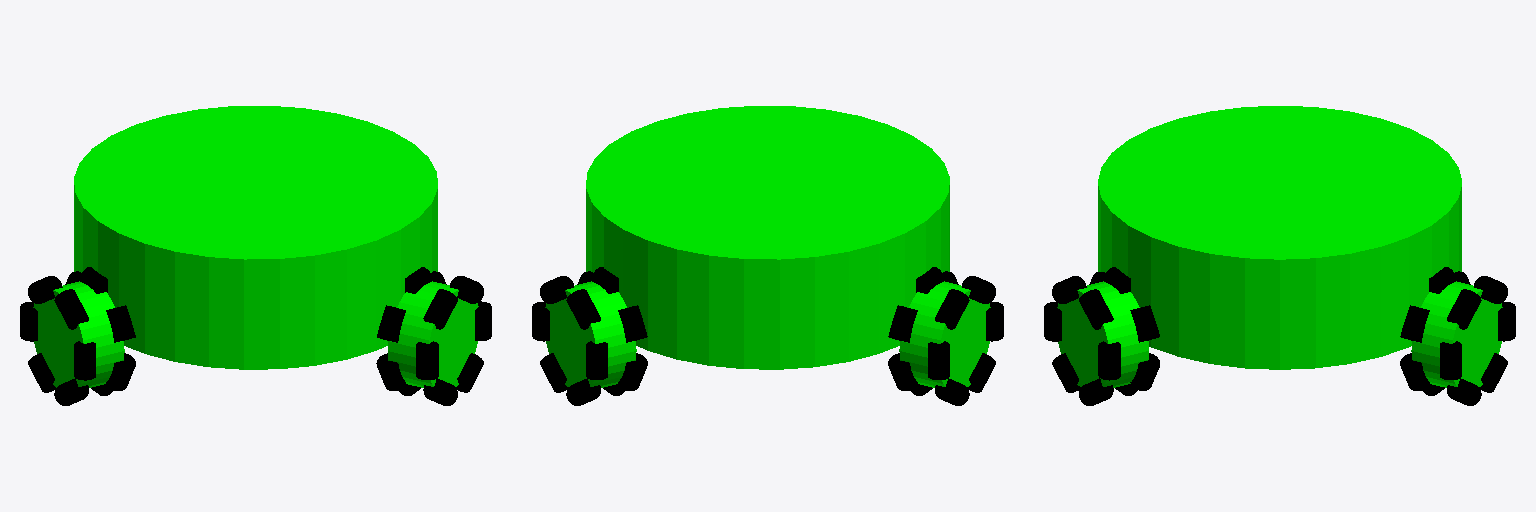
--- What the picture shows (computed from the rendered views, not written in the file) ---
3 views of the same robot in one strip: view 1: azimuth 30°, elevation 25°; view 2: azimuth 150°, elevation 25°; view 3: azimuth 270°, elevation 25° (orthographic).
Robot: humblebot — 41 links, 40 joints (39 continuous, 1 fixed); root link base_footprint; default pose: all joints at 0.
Links seen in each view (by area): view 1: base_link, wheel_300deg, wheel_180deg, wheel_180deg_roller_8, wheel_300deg_roller_11, wheel_180deg_roller_9, wheel_300deg_roller_7, wheel_300deg_roller_3, wheel_180deg_roller_5, wheel_300deg_roller_6, wheel_180deg_roller_4, wheel_300deg_roller_8 (+7 smaller); view 2: base_link, wheel_60deg, wheel_300deg, wheel_60deg_roller_11, wheel_300deg_roller_9, wheel_60deg_roller_7, wheel_300deg_roller_8, wheel_300deg_roller_5, wheel_60deg_roller_3, wheel_60deg_roller_6, wheel_300deg_roller_4, wheel_60deg_roller_8 (+7 smaller); view 3: base_link, wheel_180deg, wheel_60deg, wheel_180deg_roller_7, wheel_60deg_roller_9, wheel_180deg_roller_11, wheel_60deg_roller_8, wheel_60deg_roller_5, wheel_180deg_roller_3, wheel_60deg_roller_4, wheel_180deg_roller_6, wheel_180deg_roller_8 (+7 smaller).
Boxes of the visible links, x1,y1,x2,y2 form: base_link: (74, 106, 437, 369); wheel_300deg: (33, 281, 124, 387); wheel_180deg: (388, 281, 478, 387); wheel_180deg_roller_8: (416, 341, 438, 379); wheel_300deg_roller_11: (54, 289, 88, 329); wheel_180deg_roller_9: (423, 289, 457, 329); wheel_300deg_roller_7: (74, 341, 95, 380); wheel_300deg_roller_3: (106, 305, 135, 342); wheel_180deg_roller_5: (377, 305, 405, 342); wheel_300deg_roller_6: (106, 353, 135, 390); wheel_180deg_roller_4: (376, 353, 405, 390); wheel_300deg_roller_8: (20, 302, 37, 341); base_link: (586, 106, 949, 369); wheel_60deg: (545, 281, 636, 387); wheel_300deg: (899, 281, 990, 387); wheel_60deg_roller_11: (566, 289, 600, 329); wheel_300deg_roller_9: (935, 289, 969, 329); wheel_60deg_roller_7: (586, 341, 607, 379); wheel_300deg_roller_8: (928, 341, 949, 379); wheel_300deg_roller_5: (888, 305, 917, 342); wheel_60deg_roller_3: (618, 305, 647, 342); wheel_60deg_roller_6: (618, 353, 647, 390); wheel_300deg_roller_4: (888, 353, 917, 390); wheel_60deg_roller_8: (532, 302, 549, 341); base_link: (1098, 106, 1461, 369); wheel_180deg: (1057, 281, 1148, 387); wheel_60deg: (1411, 281, 1502, 387); wheel_180deg_roller_7: (1098, 341, 1120, 380); wheel_60deg_roller_9: (1447, 289, 1481, 329); wheel_180deg_roller_11: (1079, 289, 1113, 329); wheel_60deg_roller_8: (1440, 341, 1461, 379); wheel_60deg_roller_5: (1400, 305, 1429, 342); wheel_180deg_roller_3: (1130, 305, 1159, 342); wheel_60deg_roller_4: (1400, 353, 1429, 390); wheel_180deg_roller_6: (1130, 353, 1159, 390); wheel_180deg_roller_8: (1044, 302, 1061, 341).
Size in the robot's own frame: 0.2775 by 0.3099 by 0.1225 metres.
Geometry: primitives only (box / cylinder / sphere), no mesh files.

URDF robot description (humblebot):
<?xml version="1.0" ?>
<!-- =================================================================================== -->
<!-- |    This document was autogenerated by xacro from humblebot.xacro                | -->
<!-- |    EDITING THIS FILE BY HAND IS NOT RECOMMENDED                                 | -->
<!-- =================================================================================== -->
<robot name="humblebot">
  <!-- Common Properties -->
  <!-- colors-->
  <material name="green">
    <color rgba="0 1 0 1"/>
  </material>
  <material name="black">
    <color rgba="0 0 0 1"/>
  </material>
  <!-- Inertia -->
  <!-- Mobile Base -->
  <!-- Calculated/Constant variables -->
  <!-- macros -->
  <!-- Base link -->
  <link name="base_footprint"/>
  <link name="base_link">
    <visual>
      <geometry>
        <cylinder length="0.08" radius="0.12"/>
      </geometry>
      <origin rpy="0 0 0" xyz="0 0 0.04"/>
      <material name="green"/>
    </visual>
    <collision>
      <geometry>
        <cylinder length="0.08" radius="0.12"/>
      </geometry>
      <origin rpy="0 0 0" xyz="0 0 0.04"/>
    </collision>
    <inertial>
      <origin rpy="0 0 0" xyz="0 0 0.04"/>
      <mass value="0.3"/>
      <inertia ixx="0.0012399999999999998" ixy="0.0" ixz="0.0" iyy="0.0012399999999999998" iyz="0.0" izz="0.0021599999999999996"/>
    </inertial>
  </link>
  <!--Wheel 60deg links-->
  <link name="wheel_60deg">
    <visual>
      <geometry>
        <cylinder length="0.03" radius="0.035"/>
      </geometry>
      <origin rpy="0 0 0" xyz="0 0 0.015"/>
      <material name="green"/>
    </visual>
    <collision>
      <geometry>
        <cylinder length="0.03" radius="0.035"/>
      </geometry>
      <origin rpy="0 0 0" xyz="0 0 0.015"/>
    </collision>
    <inertial>
      <origin rpy="0 0 0" xyz="0 0 0.015"/>
      <mass value="0.02"/>
      <inertia ixx="7.625000000000001e-06" ixy="0.0" ixz="0.0" iyy="7.625000000000001e-06" iyz="0.0" izz="1.2250000000000003e-05"/>
    </inertial>
  </link>
  <link name="wheel_60deg_roller_1">
    <visual>
      <geometry>
        <cylinder length="0.022" radius="0.0075"/>
      </geometry>
      <origin rpy="0 0 0" xyz="0 0 0"/>
      <material name="black"/>
    </visual>
    <collision>
      <geometry>
        <cylinder length="0.022" radius="0.0075"/>
      </geometry>
      <origin rpy="0 0 0" xyz="0 0 0"/>
    </collision>
    <inertial>
      <origin rpy="0 0 0" xyz="0 0 0"/>
      <mass value="0.003"/>
      <inertia ixx="1.6318749999999998e-07" ixy="0.0" ixz="0.0" iyy="1.6318749999999998e-07" iyz="0.0" izz="8.437499999999999e-08"/>
    </inertial>
  </link>
  <link name="wheel_60deg_roller_2">
    <visual>
      <geometry>
        <cylinder length="0.022" radius="0.0075"/>
      </geometry>
      <origin rpy="0 0 0" xyz="0 0 0"/>
      <material name="black"/>
    </visual>
    <collision>
      <geometry>
        <cylinder length="0.022" radius="0.0075"/>
      </geometry>
      <origin rpy="0 0 0" xyz="0 0 0"/>
    </collision>
    <inertial>
      <origin rpy="0 0 0" xyz="0 0 0"/>
      <mass value="0.003"/>
      <inertia ixx="1.6318749999999998e-07" ixy="0.0" ixz="0.0" iyy="1.6318749999999998e-07" iyz="0.0" izz="8.437499999999999e-08"/>
    </inertial>
  </link>
  <link name="wheel_60deg_roller_3">
    <visual>
      <geometry>
        <cylinder length="0.022" radius="0.0075"/>
      </geometry>
      <origin rpy="0 0 0" xyz="0 0 0"/>
      <material name="black"/>
    </visual>
    <collision>
      <geometry>
        <cylinder length="0.022" radius="0.0075"/>
      </geometry>
      <origin rpy="0 0 0" xyz="0 0 0"/>
    </collision>
    <inertial>
      <origin rpy="0 0 0" xyz="0 0 0"/>
      <mass value="0.003"/>
      <inertia ixx="1.6318749999999998e-07" ixy="0.0" ixz="0.0" iyy="1.6318749999999998e-07" iyz="0.0" izz="8.437499999999999e-08"/>
    </inertial>
  </link>
  <link name="wheel_60deg_roller_4">
    <visual>
      <geometry>
        <cylinder length="0.022" radius="0.0075"/>
      </geometry>
      <origin rpy="0 0 0" xyz="0 0 0"/>
      <material name="black"/>
    </visual>
    <collision>
      <geometry>
        <cylinder length="0.022" radius="0.0075"/>
      </geometry>
      <origin rpy="0 0 0" xyz="0 0 0"/>
    </collision>
    <inertial>
      <origin rpy="0 0 0" xyz="0 0 0"/>
      <mass value="0.003"/>
      <inertia ixx="1.6318749999999998e-07" ixy="0.0" ixz="0.0" iyy="1.6318749999999998e-07" iyz="0.0" izz="8.437499999999999e-08"/>
    </inertial>
  </link>
  <link name="wheel_60deg_roller_5">
    <visual>
      <geometry>
        <cylinder length="0.022" radius="0.0075"/>
      </geometry>
      <origin rpy="0 0 0" xyz="0 0 0"/>
      <material name="black"/>
    </visual>
    <collision>
      <geometry>
        <cylinder length="0.022" radius="0.0075"/>
      </geometry>
      <origin rpy="0 0 0" xyz="0 0 0"/>
    </collision>
    <inertial>
      <origin rpy="0 0 0" xyz="0 0 0"/>
      <mass value="0.003"/>
      <inertia ixx="1.6318749999999998e-07" ixy="0.0" ixz="0.0" iyy="1.6318749999999998e-07" iyz="0.0" izz="8.437499999999999e-08"/>
    </inertial>
  </link>
  <link name="wheel_60deg_roller_6">
    <visual>
      <geometry>
        <cylinder length="0.022" radius="0.0075"/>
      </geometry>
      <origin rpy="0 0 0" xyz="0 0 0"/>
      <material name="black"/>
    </visual>
    <collision>
      <geometry>
        <cylinder length="0.022" radius="0.0075"/>
      </geometry>
      <origin rpy="0 0 0" xyz="0 0 0"/>
    </collision>
    <inertial>
      <origin rpy="0 0 0" xyz="0 0 0"/>
      <mass value="0.003"/>
      <inertia ixx="1.6318749999999998e-07" ixy="0.0" ixz="0.0" iyy="1.6318749999999998e-07" iyz="0.0" izz="8.437499999999999e-08"/>
    </inertial>
  </link>
  <link name="wheel_60deg_roller_7">
    <visual>
      <geometry>
        <cylinder length="0.022" radius="0.0075"/>
      </geometry>
      <origin rpy="0 0 0" xyz="0 0 0"/>
      <material name="black"/>
    </visual>
    <collision>
      <geometry>
        <cylinder length="0.022" radius="0.0075"/>
      </geometry>
      <origin rpy="0 0 0" xyz="0 0 0"/>
    </collision>
    <inertial>
      <origin rpy="0 0 0" xyz="0 0 0"/>
      <mass value="0.003"/>
      <inertia ixx="1.6318749999999998e-07" ixy="0.0" ixz="0.0" iyy="1.6318749999999998e-07" iyz="0.0" izz="8.437499999999999e-08"/>
    </inertial>
  </link>
  <link name="wheel_60deg_roller_8">
    <visual>
      <geometry>
        <cylinder length="0.022" radius="0.0075"/>
      </geometry>
      <origin rpy="0 0 0" xyz="0 0 0"/>
      <material name="black"/>
    </visual>
    <collision>
      <geometry>
        <cylinder length="0.022" radius="0.0075"/>
      </geometry>
      <origin rpy="0 0 0" xyz="0 0 0"/>
    </collision>
    <inertial>
      <origin rpy="0 0 0" xyz="0 0 0"/>
      <mass value="0.003"/>
      <inertia ixx="1.6318749999999998e-07" ixy="0.0" ixz="0.0" iyy="1.6318749999999998e-07" iyz="0.0" izz="8.437499999999999e-08"/>
    </inertial>
  </link>
  <link name="wheel_60deg_roller_9">
    <visual>
      <geometry>
        <cylinder length="0.022" radius="0.0075"/>
      </geometry>
      <origin rpy="0 0 0" xyz="0 0 0"/>
      <material name="black"/>
    </visual>
    <collision>
      <geometry>
        <cylinder length="0.022" radius="0.0075"/>
      </geometry>
      <origin rpy="0 0 0" xyz="0 0 0"/>
    </collision>
    <inertial>
      <origin rpy="0 0 0" xyz="0 0 0"/>
      <mass value="0.003"/>
      <inertia ixx="1.6318749999999998e-07" ixy="0.0" ixz="0.0" iyy="1.6318749999999998e-07" iyz="0.0" izz="8.437499999999999e-08"/>
    </inertial>
  </link>
  <link name="wheel_60deg_roller_10">
    <visual>
      <geometry>
        <cylinder length="0.022" radius="0.0075"/>
      </geometry>
      <origin rpy="0 0 0" xyz="0 0 0"/>
      <material name="black"/>
    </visual>
    <collision>
      <geometry>
        <cylinder length="0.022" radius="0.0075"/>
      </geometry>
      <origin rpy="0 0 0" xyz="0 0 0"/>
    </collision>
    <inertial>
      <origin rpy="0 0 0" xyz="0 0 0"/>
      <mass value="0.003"/>
      <inertia ixx="1.6318749999999998e-07" ixy="0.0" ixz="0.0" iyy="1.6318749999999998e-07" iyz="0.0" izz="8.437499999999999e-08"/>
    </inertial>
  </link>
  <link name="wheel_60deg_roller_11">
    <visual>
      <geometry>
        <cylinder length="0.022" radius="0.0075"/>
      </geometry>
      <origin rpy="0 0 0" xyz="0 0 0"/>
      <material name="black"/>
    </visual>
    <collision>
      <geometry>
        <cylinder length="0.022" radius="0.0075"/>
      </geometry>
      <origin rpy="0 0 0" xyz="0 0 0"/>
    </collision>
    <inertial>
      <origin rpy="0 0 0" xyz="0 0 0"/>
      <mass value="0.003"/>
      <inertia ixx="1.6318749999999998e-07" ixy="0.0" ixz="0.0" iyy="1.6318749999999998e-07" iyz="0.0" izz="8.437499999999999e-08"/>
    </inertial>
  </link>
  <link name="wheel_60deg_roller_12">
    <visual>
      <geometry>
        <cylinder length="0.022" radius="0.0075"/>
      </geometry>
      <origin rpy="0 0 0" xyz="0 0 0"/>
      <material name="black"/>
    </visual>
    <collision>
      <geometry>
        <cylinder length="0.022" radius="0.0075"/>
      </geometry>
      <origin rpy="0 0 0" xyz="0 0 0"/>
    </collision>
    <inertial>
      <origin rpy="0 0 0" xyz="0 0 0"/>
      <mass value="0.003"/>
      <inertia ixx="1.6318749999999998e-07" ixy="0.0" ixz="0.0" iyy="1.6318749999999998e-07" iyz="0.0" izz="8.437499999999999e-08"/>
    </inertial>
  </link>
  <!--Wheel 300deg links-->
  <link name="wheel_300deg">
    <visual>
      <geometry>
        <cylinder length="0.03" radius="0.035"/>
      </geometry>
      <origin rpy="0 0 0" xyz="0 0 0.015"/>
      <material name="green"/>
    </visual>
    <collision>
      <geometry>
        <cylinder length="0.03" radius="0.035"/>
      </geometry>
      <origin rpy="0 0 0" xyz="0 0 0.015"/>
    </collision>
    <inertial>
      <origin rpy="0 0 0" xyz="0 0 0.015"/>
      <mass value="0.02"/>
      <inertia ixx="7.625000000000001e-06" ixy="0.0" ixz="0.0" iyy="7.625000000000001e-06" iyz="0.0" izz="1.2250000000000003e-05"/>
    </inertial>
  </link>
  <link name="wheel_300deg_roller_1">
    <visual>
      <geometry>
        <cylinder length="0.022" radius="0.0075"/>
      </geometry>
      <origin rpy="0 0 0" xyz="0 0 0"/>
      <material name="black"/>
    </visual>
    <collision>
      <geometry>
        <cylinder length="0.022" radius="0.0075"/>
      </geometry>
      <origin rpy="0 0 0" xyz="0 0 0"/>
    </collision>
    <inertial>
      <origin rpy="0 0 0" xyz="0 0 0"/>
      <mass value="0.003"/>
      <inertia ixx="1.6318749999999998e-07" ixy="0.0" ixz="0.0" iyy="1.6318749999999998e-07" iyz="0.0" izz="8.437499999999999e-08"/>
    </inertial>
  </link>
  <link name="wheel_300deg_roller_2">
    <visual>
      <geometry>
        <cylinder length="0.022" radius="0.0075"/>
      </geometry>
      <origin rpy="0 0 0" xyz="0 0 0"/>
      <material name="black"/>
    </visual>
    <collision>
      <geometry>
        <cylinder length="0.022" radius="0.0075"/>
      </geometry>
      <origin rpy="0 0 0" xyz="0 0 0"/>
    </collision>
    <inertial>
      <origin rpy="0 0 0" xyz="0 0 0"/>
      <mass value="0.003"/>
      <inertia ixx="1.6318749999999998e-07" ixy="0.0" ixz="0.0" iyy="1.6318749999999998e-07" iyz="0.0" izz="8.437499999999999e-08"/>
    </inertial>
  </link>
  <link name="wheel_300deg_roller_3">
    <visual>
      <geometry>
        <cylinder length="0.022" radius="0.0075"/>
      </geometry>
      <origin rpy="0 0 0" xyz="0 0 0"/>
      <material name="black"/>
    </visual>
    <collision>
      <geometry>
        <cylinder length="0.022" radius="0.0075"/>
      </geometry>
      <origin rpy="0 0 0" xyz="0 0 0"/>
    </collision>
    <inertial>
      <origin rpy="0 0 0" xyz="0 0 0"/>
      <mass value="0.003"/>
      <inertia ixx="1.6318749999999998e-07" ixy="0.0" ixz="0.0" iyy="1.6318749999999998e-07" iyz="0.0" izz="8.437499999999999e-08"/>
    </inertial>
  </link>
  <link name="wheel_300deg_roller_4">
    <visual>
      <geometry>
        <cylinder length="0.022" radius="0.0075"/>
      </geometry>
      <origin rpy="0 0 0" xyz="0 0 0"/>
      <material name="black"/>
    </visual>
    <collision>
      <geometry>
        <cylinder length="0.022" radius="0.0075"/>
      </geometry>
      <origin rpy="0 0 0" xyz="0 0 0"/>
    </collision>
    <inertial>
      <origin rpy="0 0 0" xyz="0 0 0"/>
      <mass value="0.003"/>
      <inertia ixx="1.6318749999999998e-07" ixy="0.0" ixz="0.0" iyy="1.6318749999999998e-07" iyz="0.0" izz="8.437499999999999e-08"/>
    </inertial>
  </link>
  <link name="wheel_300deg_roller_5">
    <visual>
      <geometry>
        <cylinder length="0.022" radius="0.0075"/>
      </geometry>
      <origin rpy="0 0 0" xyz="0 0 0"/>
      <material name="black"/>
    </visual>
    <collision>
      <geometry>
        <cylinder length="0.022" radius="0.0075"/>
      </geometry>
      <origin rpy="0 0 0" xyz="0 0 0"/>
    </collision>
    <inertial>
      <origin rpy="0 0 0" xyz="0 0 0"/>
      <mass value="0.003"/>
      <inertia ixx="1.6318749999999998e-07" ixy="0.0" ixz="0.0" iyy="1.6318749999999998e-07" iyz="0.0" izz="8.437499999999999e-08"/>
    </inertial>
  </link>
  <link name="wheel_300deg_roller_6">
    <visual>
      <geometry>
        <cylinder length="0.022" radius="0.0075"/>
      </geometry>
      <origin rpy="0 0 0" xyz="0 0 0"/>
      <material name="black"/>
    </visual>
    <collision>
      <geometry>
        <cylinder length="0.022" radius="0.0075"/>
      </geometry>
      <origin rpy="0 0 0" xyz="0 0 0"/>
    </collision>
    <inertial>
      <origin rpy="0 0 0" xyz="0 0 0"/>
      <mass value="0.003"/>
      <inertia ixx="1.6318749999999998e-07" ixy="0.0" ixz="0.0" iyy="1.6318749999999998e-07" iyz="0.0" izz="8.437499999999999e-08"/>
    </inertial>
  </link>
  <link name="wheel_300deg_roller_7">
    <visual>
      <geometry>
        <cylinder length="0.022" radius="0.0075"/>
      </geometry>
      <origin rpy="0 0 0" xyz="0 0 0"/>
      <material name="black"/>
    </visual>
    <collision>
      <geometry>
        <cylinder length="0.022" radius="0.0075"/>
      </geometry>
      <origin rpy="0 0 0" xyz="0 0 0"/>
    </collision>
    <inertial>
      <origin rpy="0 0 0" xyz="0 0 0"/>
      <mass value="0.003"/>
      <inertia ixx="1.6318749999999998e-07" ixy="0.0" ixz="0.0" iyy="1.6318749999999998e-07" iyz="0.0" izz="8.437499999999999e-08"/>
    </inertial>
  </link>
  <link name="wheel_300deg_roller_8">
    <visual>
      <geometry>
        <cylinder length="0.022" radius="0.0075"/>
      </geometry>
      <origin rpy="0 0 0" xyz="0 0 0"/>
      <material name="black"/>
    </visual>
    <collision>
      <geometry>
        <cylinder length="0.022" radius="0.0075"/>
      </geometry>
      <origin rpy="0 0 0" xyz="0 0 0"/>
    </collision>
    <inertial>
      <origin rpy="0 0 0" xyz="0 0 0"/>
      <mass value="0.003"/>
      <inertia ixx="1.6318749999999998e-07" ixy="0.0" ixz="0.0" iyy="1.6318749999999998e-07" iyz="0.0" izz="8.437499999999999e-08"/>
    </inertial>
  </link>
  <link name="wheel_300deg_roller_9">
    <visual>
      <geometry>
        <cylinder length="0.022" radius="0.0075"/>
      </geometry>
      <origin rpy="0 0 0" xyz="0 0 0"/>
      <material name="black"/>
    </visual>
    <collision>
      <geometry>
        <cylinder length="0.022" radius="0.0075"/>
      </geometry>
      <origin rpy="0 0 0" xyz="0 0 0"/>
    </collision>
    <inertial>
      <origin rpy="0 0 0" xyz="0 0 0"/>
      <mass value="0.003"/>
      <inertia ixx="1.6318749999999998e-07" ixy="0.0" ixz="0.0" iyy="1.6318749999999998e-07" iyz="0.0" izz="8.437499999999999e-08"/>
    </inertial>
  </link>
  <link name="wheel_300deg_roller_10">
    <visual>
      <geometry>
        <cylinder length="0.022" radius="0.0075"/>
      </geometry>
      <origin rpy="0 0 0" xyz="0 0 0"/>
      <material name="black"/>
    </visual>
    <collision>
      <geometry>
        <cylinder length="0.022" radius="0.0075"/>
      </geometry>
      <origin rpy="0 0 0" xyz="0 0 0"/>
    </collision>
    <inertial>
      <origin rpy="0 0 0" xyz="0 0 0"/>
      <mass value="0.003"/>
      <inertia ixx="1.6318749999999998e-07" ixy="0.0" ixz="0.0" iyy="1.6318749999999998e-07" iyz="0.0" izz="8.437499999999999e-08"/>
    </inertial>
  </link>
  <link name="wheel_300deg_roller_11">
    <visual>
      <geometry>
        <cylinder length="0.022" radius="0.0075"/>
      </geometry>
      <origin rpy="0 0 0" xyz="0 0 0"/>
      <material name="black"/>
    </visual>
    <collision>
      <geometry>
        <cylinder length="0.022" radius="0.0075"/>
      </geometry>
      <origin rpy="0 0 0" xyz="0 0 0"/>
    </collision>
    <inertial>
      <origin rpy="0 0 0" xyz="0 0 0"/>
      <mass value="0.003"/>
      <inertia ixx="1.6318749999999998e-07" ixy="0.0" ixz="0.0" iyy="1.6318749999999998e-07" iyz="0.0" izz="8.437499999999999e-08"/>
    </inertial>
  </link>
  <link name="wheel_300deg_roller_12">
    <visual>
      <geometry>
        <cylinder length="0.022" radius="0.0075"/>
      </geometry>
      <origin rpy="0 0 0" xyz="0 0 0"/>
      <material name="black"/>
    </visual>
    <collision>
      <geometry>
        <cylinder length="0.022" radius="0.0075"/>
      </geometry>
      <origin rpy="0 0 0" xyz="0 0 0"/>
    </collision>
    <inertial>
      <origin rpy="0 0 0" xyz="0 0 0"/>
      <mass value="0.003"/>
      <inertia ixx="1.6318749999999998e-07" ixy="0.0" ixz="0.0" iyy="1.6318749999999998e-07" iyz="0.0" izz="8.437499999999999e-08"/>
    </inertial>
  </link>
  <!--Wheel 180deg links-->
  <link name="wheel_180deg">
    <visual>
      <geometry>
        <cylinder length="0.03" radius="0.035"/>
      </geometry>
      <origin rpy="0 0 0" xyz="0 0 0.015"/>
      <material name="green"/>
    </visual>
    <collision>
      <geometry>
        <cylinder length="0.03" radius="0.035"/>
      </geometry>
      <origin rpy="0 0 0" xyz="0 0 0.015"/>
    </collision>
    <inertial>
      <origin rpy="0 0 0" xyz="0 0 0.015"/>
      <mass value="0.02"/>
      <inertia ixx="7.625000000000001e-06" ixy="0.0" ixz="0.0" iyy="7.625000000000001e-06" iyz="0.0" izz="1.2250000000000003e-05"/>
    </inertial>
  </link>
  <link name="wheel_180deg_roller_1">
    <visual>
      <geometry>
        <cylinder length="0.022" radius="0.0075"/>
      </geometry>
      <origin rpy="0 0 0" xyz="0 0 0"/>
      <material name="black"/>
    </visual>
    <collision>
      <geometry>
        <cylinder length="0.022" radius="0.0075"/>
      </geometry>
      <origin rpy="0 0 0" xyz="0 0 0"/>
    </collision>
    <inertial>
      <origin rpy="0 0 0" xyz="0 0 0"/>
      <mass value="0.003"/>
      <inertia ixx="1.6318749999999998e-07" ixy="0.0" ixz="0.0" iyy="1.6318749999999998e-07" iyz="0.0" izz="8.437499999999999e-08"/>
    </inertial>
  </link>
  <link name="wheel_180deg_roller_2">
    <visual>
      <geometry>
        <cylinder length="0.022" radius="0.0075"/>
      </geometry>
      <origin rpy="0 0 0" xyz="0 0 0"/>
      <material name="black"/>
    </visual>
    <collision>
      <geometry>
        <cylinder length="0.022" radius="0.0075"/>
      </geometry>
      <origin rpy="0 0 0" xyz="0 0 0"/>
    </collision>
    <inertial>
      <origin rpy="0 0 0" xyz="0 0 0"/>
      <mass value="0.003"/>
      <inertia ixx="1.6318749999999998e-07" ixy="0.0" ixz="0.0" iyy="1.6318749999999998e-07" iyz="0.0" izz="8.437499999999999e-08"/>
    </inertial>
  </link>
  <link name="wheel_180deg_roller_3">
    <visual>
      <geometry>
        <cylinder length="0.022" radius="0.0075"/>
      </geometry>
      <origin rpy="0 0 0" xyz="0 0 0"/>
      <material name="black"/>
    </visual>
    <collision>
      <geometry>
        <cylinder length="0.022" radius="0.0075"/>
      </geometry>
      <origin rpy="0 0 0" xyz="0 0 0"/>
    </collision>
    <inertial>
      <origin rpy="0 0 0" xyz="0 0 0"/>
      <mass value="0.003"/>
      <inertia ixx="1.6318749999999998e-07" ixy="0.0" ixz="0.0" iyy="1.6318749999999998e-07" iyz="0.0" izz="8.437499999999999e-08"/>
    </inertial>
  </link>
  <link name="wheel_180deg_roller_4">
    <visual>
      <geometry>
        <cylinder length="0.022" radius="0.0075"/>
      </geometry>
      <origin rpy="0 0 0" xyz="0 0 0"/>
      <material name="black"/>
    </visual>
    <collision>
      <geometry>
        <cylinder length="0.022" radius="0.0075"/>
      </geometry>
      <origin rpy="0 0 0" xyz="0 0 0"/>
    </collision>
    <inertial>
      <origin rpy="0 0 0" xyz="0 0 0"/>
      <mass value="0.003"/>
      <inertia ixx="1.6318749999999998e-07" ixy="0.0" ixz="0.0" iyy="1.6318749999999998e-07" iyz="0.0" izz="8.437499999999999e-08"/>
    </inertial>
  </link>
  <link name="wheel_180deg_roller_5">
    <visual>
      <geometry>
        <cylinder length="0.022" radius="0.0075"/>
      </geometry>
      <origin rpy="0 0 0" xyz="0 0 0"/>
      <material name="black"/>
    </visual>
    <collision>
      <geometry>
        <cylinder length="0.022" radius="0.0075"/>
      </geometry>
      <origin rpy="0 0 0" xyz="0 0 0"/>
    </collision>
    <inertial>
      <origin rpy="0 0 0" xyz="0 0 0"/>
      <mass value="0.003"/>
      <inertia ixx="1.6318749999999998e-07" ixy="0.0" ixz="0.0" iyy="1.6318749999999998e-07" iyz="0.0" izz="8.437499999999999e-08"/>
    </inertial>
  </link>
  <link name="wheel_180deg_roller_6">
    <visual>
      <geometry>
        <cylinder length="0.022" radius="0.0075"/>
      </geometry>
      <origin rpy="0 0 0" xyz="0 0 0"/>
      <material name="black"/>
    </visual>
    <collision>
      <geometry>
        <cylinder length="0.022" radius="0.0075"/>
      </geometry>
      <origin rpy="0 0 0" xyz="0 0 0"/>
    </collision>
    <inertial>
      <origin rpy="0 0 0" xyz="0 0 0"/>
      <mass value="0.003"/>
      <inertia ixx="1.6318749999999998e-07" ixy="0.0" ixz="0.0" iyy="1.6318749999999998e-07" iyz="0.0" izz="8.437499999999999e-08"/>
    </inertial>
  </link>
  <link name="wheel_180deg_roller_7">
    <visual>
      <geometry>
        <cylinder length="0.022" radius="0.0075"/>
      </geometry>
      <origin rpy="0 0 0" xyz="0 0 0"/>
      <material name="black"/>
    </visual>
    <collision>
      <geometry>
        <cylinder length="0.022" radius="0.0075"/>
      </geometry>
      <origin rpy="0 0 0" xyz="0 0 0"/>
    </collision>
    <inertial>
      <origin rpy="0 0 0" xyz="0 0 0"/>
      <mass value="0.003"/>
      <inertia ixx="1.6318749999999998e-07" ixy="0.0" ixz="0.0" iyy="1.6318749999999998e-07" iyz="0.0" izz="8.437499999999999e-08"/>
    </inertial>
  </link>
  <link name="wheel_180deg_roller_8">
    <visual>
      <geometry>
        <cylinder length="0.022" radius="0.0075"/>
      </geometry>
      <origin rpy="0 0 0" xyz="0 0 0"/>
      <material name="black"/>
    </visual>
    <collision>
      <geometry>
        <cylinder length="0.022" radius="0.0075"/>
      </geometry>
      <origin rpy="0 0 0" xyz="0 0 0"/>
    </collision>
    <inertial>
      <origin rpy="0 0 0" xyz="0 0 0"/>
      <mass value="0.003"/>
      <inertia ixx="1.6318749999999998e-07" ixy="0.0" ixz="0.0" iyy="1.6318749999999998e-07" iyz="0.0" izz="8.437499999999999e-08"/>
    </inertial>
  </link>
  <link name="wheel_180deg_roller_9">
    <visual>
      <geometry>
        <cylinder length="0.022" radius="0.0075"/>
      </geometry>
      <origin rpy="0 0 0" xyz="0 0 0"/>
      <material name="black"/>
    </visual>
    <collision>
      <geometry>
        <cylinder length="0.022" radius="0.0075"/>
      </geometry>
      <origin rpy="0 0 0" xyz="0 0 0"/>
    </collision>
    <inertial>
      <origin rpy="0 0 0" xyz="0 0 0"/>
      <mass value="0.003"/>
      <inertia ixx="1.6318749999999998e-07" ixy="0.0" ixz="0.0" iyy="1.6318749999999998e-07" iyz="0.0" izz="8.437499999999999e-08"/>
    </inertial>
  </link>
  <link name="wheel_180deg_roller_10">
    <visual>
      <geometry>
        <cylinder length="0.022" radius="0.0075"/>
      </geometry>
      <origin rpy="0 0 0" xyz="0 0 0"/>
      <material name="black"/>
    </visual>
    <collision>
      <geometry>
        <cylinder length="0.022" radius="0.0075"/>
      </geometry>
      <origin rpy="0 0 0" xyz="0 0 0"/>
    </collision>
    <inertial>
      <origin rpy="0 0 0" xyz="0 0 0"/>
      <mass value="0.003"/>
      <inertia ixx="1.6318749999999998e-07" ixy="0.0" ixz="0.0" iyy="1.6318749999999998e-07" iyz="0.0" izz="8.437499999999999e-08"/>
    </inertial>
  </link>
  <link name="wheel_180deg_roller_11">
    <visual>
      <geometry>
        <cylinder length="0.022" radius="0.0075"/>
      </geometry>
      <origin rpy="0 0 0" xyz="0 0 0"/>
      <material name="black"/>
    </visual>
    <collision>
      <geometry>
        <cylinder length="0.022" radius="0.0075"/>
      </geometry>
      <origin rpy="0 0 0" xyz="0 0 0"/>
    </collision>
    <inertial>
      <origin rpy="0 0 0" xyz="0 0 0"/>
      <mass value="0.003"/>
      <inertia ixx="1.6318749999999998e-07" ixy="0.0" ixz="0.0" iyy="1.6318749999999998e-07" iyz="0.0" izz="8.437499999999999e-08"/>
    </inertial>
  </link>
  <link name="wheel_180deg_roller_12">
    <visual>
      <geometry>
        <cylinder length="0.022" radius="0.0075"/>
      </geometry>
      <origin rpy="0 0 0" xyz="0 0 0"/>
      <material name="black"/>
    </visual>
    <collision>
      <geometry>
        <cylinder length="0.022" radius="0.0075"/>
      </geometry>
      <origin rpy="0 0 0" xyz="0 0 0"/>
    </collision>
    <inertial>
      <origin rpy="0 0 0" xyz="0 0 0"/>
      <mass value="0.003"/>
      <inertia ixx="1.6318749999999998e-07" ixy="0.0" ixz="0.0" iyy="1.6318749999999998e-07" iyz="0.0" izz="8.437499999999999e-08"/>
    </inertial>
  </link>
  <!--Wheel 60deg joints-->
  <joint name="base_joint" type="fixed">
    <parent link="base_footprint"/>
    <child link="base_link"/>
    <origin rpy="0 0 0" xyz="0 0 0.035"/>
  </joint>
  <joint name="base_wheel60_joint" type="continuous">
    <parent link="base_link"/>
    <child link="wheel_60deg"/>
    <axis xyz="0 0 1"/>
    <origin rpy="-1.0471975511965976 1.5707963267948966 0" xyz="0.06 0.10392304845413262 0"/>
  </joint>
  <joint name="wheel_60deg_roller_1_joint" type="continuous">
    <parent link="wheel_60deg"/>
    <child link="wheel_60deg_roller_1"/>
    <axis xyz="0 0 1"/>
    <origin rpy="1.5707963267948966 0 0" xyz="0.035 0 0"/>
  </joint>
  <joint name="wheel_60deg_roller_2_joint" type="continuous">
    <parent link="wheel_60deg"/>
    <child link="wheel_60deg_roller_2"/>
    <axis xyz="0 0 1"/>
    <origin rpy="1.5707963267948966 0 0" xyz="-0.035 0 0"/>
  </joint>
  <joint name="wheel_60deg_roller_3_joint" type="continuous">
    <parent link="wheel_60deg"/>
    <child link="wheel_60deg_roller_3"/>
    <axis xyz="0 0 1"/>
    <origin rpy="1.5707963267948966 0 -1.0471975511965976" xyz="-0.0175 0.03 0"/>
  </joint>
  <joint name="wheel_60deg_roller_4_joint" type="continuous">
    <parent link="wheel_60deg"/>
    <child link="wheel_60deg_roller_4"/>
    <axis xyz="0 0 1"/>
    <origin rpy="1.5707963267948966 0 -1.0471975511965976" xyz="0.0175 -0.03 0"/>
  </joint>
  <joint name="wheel_60deg_roller_5_joint" type="continuous">
    <parent link="wheel_60deg"/>
    <child link="wheel_60deg_roller_5"/>
    <axis xyz="0 0 1"/>
    <origin rpy="1.5707963267948966 0 1.0471975511965976" xyz="-0.0175 -0.03 0"/>
  </joint>
  <joint name="wheel_60deg_roller_6_joint" type="continuous">
    <parent link="wheel_60deg"/>
    <child link="wheel_60deg_roller_6"/>
    <axis xyz="0 0 1"/>
    <origin rpy="1.5707963267948966 0 1.0471975511965976" xyz="0.0175 0.03 0"/>
  </joint>
  <joint name="wheel_60deg_roller_7_joint" type="continuous">
    <parent link="wheel_60deg"/>
    <child link="wheel_60deg_roller_7"/>
    <axis xyz="0 0 1"/>
    <origin rpy="1.5707963267948966 0 1.5707963267948966" xyz="0 0.035 0.03"/>
  </joint>
  <joint name="wheel_60deg_roller_8_joint" type="continuous">
    <parent link="wheel_60deg"/>
    <child link="wheel_60deg_roller_8"/>
    <axis xyz="0 0 1"/>
    <origin rpy="1.5707963267948966 0 1.5707963267948966" xyz="0 -0.035 0.03"/>
  </joint>
  <joint name="wheel_60deg_roller_9_joint" type="continuous">
    <parent link="wheel_60deg"/>
    <child link="wheel_60deg_roller_9"/>
    <axis xyz="0 0 1"/>
    <origin rpy="1.5707963267948966 0 0.57" xyz="-0.03 -0.0175 0.03"/>
  </joint>
  <joint name="wheel_60deg_roller_10_joint" type="continuous">
    <parent link="wheel_60deg"/>
    <child link="wheel_60deg_roller_10"/>
    <axis xyz="0 0 1"/>
    <origin rpy="1.5707963267948966 0 0.57" xyz="0.03 0.0175 0.03"/>
  </joint>
  <joint name="wheel_60deg_roller_11_joint" type="continuous">
    <parent link="wheel_60deg"/>
    <child link="wheel_60deg_roller_11"/>
    <axis xyz="0 0 1"/>
    <origin rpy="1.5707963267948966 0 -0.57" xyz="-0.03 0.0175 0.03"/>
  </joint>
  <joint name="wheel_60deg_roller_12_joint" type="continuous">
    <parent link="wheel_60deg"/>
    <child link="wheel_60deg_roller_12"/>
    <axis xyz="0 0 1"/>
    <origin rpy="1.5707963267948966 0 -0.57" xyz="0.03 -0.0175 0.03"/>
  </joint>
  <!--Wheel 300deg joints-->
  <joint name="base_wheel300_joint" type="continuous">
    <parent link="base_link"/>
    <child link="wheel_300deg"/>
    <axis xyz="0 0 1"/>
    <origin rpy="0 1.5707963267948966 3.141592653589793" xyz="-0.12 0.0 0"/>
  </joint>
  <joint name="wheel_300deg_roller_1_joint" type="continuous">
    <parent link="wheel_300deg"/>
    <child link="wheel_300deg_roller_1"/>
    <axis xyz="0 0 1"/>
    <origin rpy="1.5707963267948966 0 0" xyz="0.035 0 0"/>
  </joint>
  <joint name="wheel_300deg_roller_2_joint" type="continuous">
    <parent link="wheel_300deg"/>
    <child link="wheel_300deg_roller_2"/>
    <axis xyz="0 0 1"/>
    <origin rpy="1.5707963267948966 0 0" xyz="-0.035 0 0"/>
  </joint>
  <joint name="wheel_300deg_roller_3_joint" type="continuous">
    <parent link="wheel_300deg"/>
    <child link="wheel_300deg_roller_3"/>
    <axis xyz="0 0 1"/>
    <origin rpy="1.5707963267948966 0 -1.0471975511965976" xyz="-0.0175 0.03 0"/>
  </joint>
  <joint name="wheel_300deg_roller_4_joint" type="continuous">
    <parent link="wheel_300deg"/>
    <child link="wheel_300deg_roller_4"/>
    <axis xyz="0 0 1"/>
    <origin rpy="1.5707963267948966 0 -1.0471975511965976" xyz="0.0175 -0.03 0"/>
  </joint>
  <joint name="wheel_300deg_roller_5_joint" type="continuous">
    <parent link="wheel_300deg"/>
    <child link="wheel_300deg_roller_5"/>
    <axis xyz="0 0 1"/>
    <origin rpy="1.5707963267948966 0 1.0471975511965976" xyz="-0.0175 -0.03 0"/>
  </joint>
  <joint name="wheel_300deg_roller_6_joint" type="continuous">
    <parent link="wheel_300deg"/>
    <child link="wheel_300deg_roller_6"/>
    <axis xyz="0 0 1"/>
    <origin rpy="1.5707963267948966 0 1.0471975511965976" xyz="0.0175 0.03 0"/>
  </joint>
  <joint name="wheel_300deg_roller_7_joint" type="continuous">
    <parent link="wheel_300deg"/>
    <child link="wheel_300deg_roller_7"/>
    <axis xyz="0 0 1"/>
    <origin rpy="1.5707963267948966 0 1.5707963267948966" xyz="0 0.035 0.03"/>
  </joint>
  <joint name="wheel_300deg_roller_8_joint" type="continuous">
    <parent link="wheel_300deg"/>
    <child link="wheel_300deg_roller_8"/>
    <axis xyz="0 0 1"/>
    <origin rpy="1.5707963267948966 0 1.5707963267948966" xyz="0 -0.035 0.03"/>
  </joint>
  <joint name="wheel_300deg_roller_9_joint" type="continuous">
    <parent link="wheel_300deg"/>
    <child link="wheel_300deg_roller_9"/>
    <axis xyz="0 0 1"/>
    <origin rpy="1.5707963267948966 0 0.57" xyz="-0.03 -0.0175 0.03"/>
  </joint>
  <joint name="wheel_300deg_roller_10_joint" type="continuous">
    <parent link="wheel_300deg"/>
    <child link="wheel_300deg_roller_10"/>
    <axis xyz="0 0 1"/>
    <origin rpy="1.5707963267948966 0 0.57" xyz="0.03 0.0175 0.03"/>
  </joint>
  <joint name="wheel_300deg_roller_11_joint" type="continuous">
    <parent link="wheel_300deg"/>
    <child link="wheel_300deg_roller_11"/>
    <axis xyz="0 0 1"/>
    <origin rpy="1.5707963267948966 0 -0.57" xyz="-0.03 0.0175 0.03"/>
  </joint>
  <joint name="wheel_300deg_roller_12_joint" type="continuous">
    <parent link="wheel_300deg"/>
    <child link="wheel_300deg_roller_12"/>
    <axis xyz="0 0 1"/>
    <origin rpy="1.5707963267948966 0 -0.57" xyz="0.03 -0.0175 0.03"/>
  </joint>
  <!--Wheel 180deg joints-->
  <joint name="base_wheel180_joint" type="continuous">
    <parent link="base_link"/>
    <child link="wheel_180deg"/>
    <axis xyz="0 0 1"/>
    <origin rpy="1.04 1.5707963267948966 0" xyz="0.06 -0.10392304845413262 0"/>
  </joint>
  <joint name="wheel_180deg_roller_1_joint" type="continuous">
    <parent link="wheel_180deg"/>
    <child link="wheel_180deg_roller_1"/>
    <axis xyz="0 0 1"/>
    <origin rpy="1.5707963267948966 0 0" xyz="0.035 0 0"/>
  </joint>
  <joint name="wheel_180deg_roller_2_joint" type="continuous">
    <parent link="wheel_180deg"/>
    <child link="wheel_180deg_roller_2"/>
    <axis xyz="0 0 1"/>
    <origin rpy="1.5707963267948966 0 0" xyz="-0.035 0 0"/>
  </joint>
  <joint name="wheel_180deg_roller_3_joint" type="continuous">
    <parent link="wheel_180deg"/>
    <child link="wheel_180deg_roller_3"/>
    <axis xyz="0 0 1"/>
    <origin rpy="1.5707963267948966 0 -1.0471975511965976" xyz="-0.0175 0.03 0"/>
  </joint>
  <joint name="wheel_180deg_roller_4_joint" type="continuous">
    <parent link="wheel_180deg"/>
    <child link="wheel_180deg_roller_4"/>
    <axis xyz="0 0 1"/>
    <origin rpy="1.5707963267948966 0 -1.0471975511965976" xyz="0.0175 -0.03 0"/>
  </joint>
  <joint name="wheel_180deg_roller_5_joint" type="continuous">
    <parent link="wheel_180deg"/>
    <child link="wheel_180deg_roller_5"/>
    <axis xyz="0 0 1"/>
    <origin rpy="1.5707963267948966 0 1.0471975511965976" xyz="-0.0175 -0.03 0"/>
  </joint>
  <joint name="wheel_180deg_roller_6_joint" type="continuous">
    <parent link="wheel_180deg"/>
    <child link="wheel_180deg_roller_6"/>
    <axis xyz="0 0 1"/>
    <origin rpy="1.5707963267948966 0 1.0471975511965976" xyz="0.0175 0.03 0"/>
  </joint>
  <joint name="wheel_180deg_roller_7_joint" type="continuous">
    <parent link="wheel_180deg"/>
    <child link="wheel_180deg_roller_7"/>
    <axis xyz="0 0 1"/>
    <origin rpy="1.5707963267948966 0 1.5707963267948966" xyz="0 0.035 0.03"/>
  </joint>
  <joint name="wheel_180deg_roller_8_joint" type="continuous">
    <parent link="wheel_180deg"/>
    <child link="wheel_180deg_roller_8"/>
    <axis xyz="0 0 1"/>
    <origin rpy="1.5707963267948966 0 1.5707963267948966" xyz="0 -0.035 0.03"/>
  </joint>
  <joint name="wheel_180deg_roller_9_joint" type="continuous">
    <parent link="wheel_180deg"/>
    <child link="wheel_180deg_roller_9"/>
    <axis xyz="0 0 1"/>
    <origin rpy="1.5707963267948966 0 0.57" xyz="-0.03 -0.0175 0.03"/>
  </joint>
  <joint name="wheel_180deg_roller_10_joint" type="continuous">
    <parent link="wheel_180deg"/>
    <child link="wheel_180deg_roller_10"/>
    <axis xyz="0 0 1"/>
    <origin rpy="1.5707963267948966 0 0.57" xyz="0.03 0.0175 0.03"/>
  </joint>
  <joint name="wheel_180deg_roller_11_joint" type="continuous">
    <parent link="wheel_180deg"/>
    <child link="wheel_180deg_roller_11"/>
    <axis xyz="0 0 1"/>
    <origin rpy="1.5707963267948966 0 -0.57" xyz="-0.03 0.0175 0.03"/>
  </joint>
  <joint name="wheel_180deg_roller_12_joint" type="continuous">
    <parent link="wheel_180deg"/>
    <child link="wheel_180deg_roller_12"/>
    <axis xyz="0 0 1"/>
    <origin rpy="1.5707963267948966 0 -0.57" xyz="0.03 -0.0175 0.03"/>
  </joint>
</robot>
